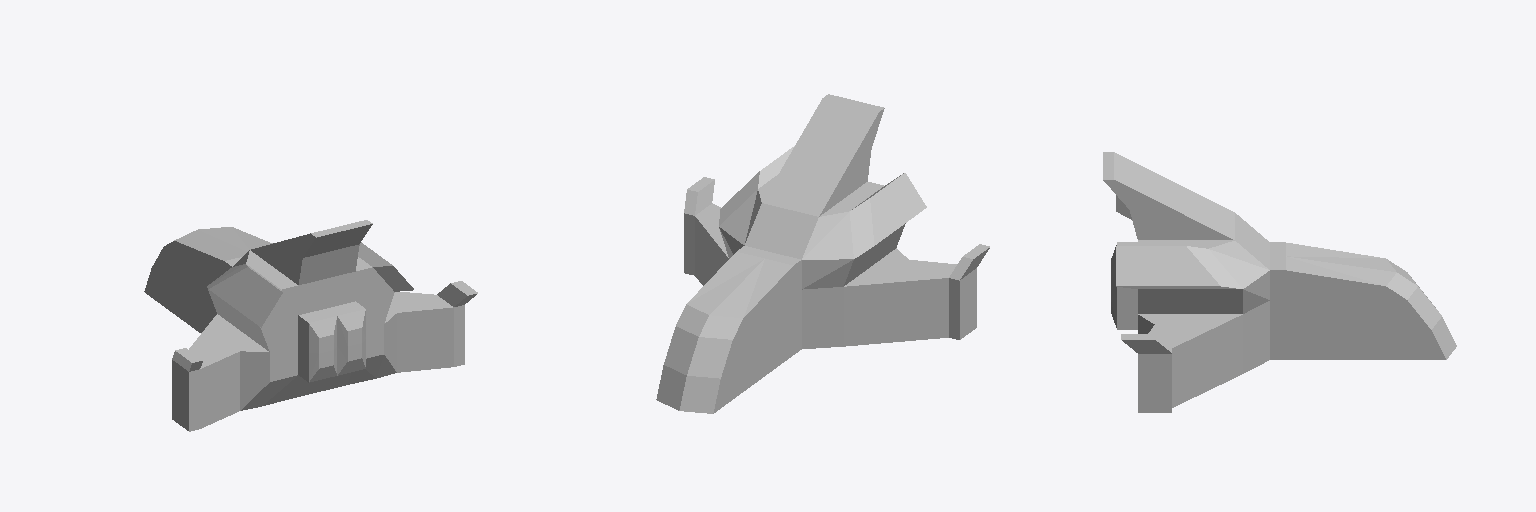
The model's file is Ship.obj.
3 renders of one model, left to right at view 1: azimuth 30°, elevation 25°; view 2: azimuth 150°, elevation 25°; view 3: azimuth 270°, elevation 25°, orthographic.
Visible parts, largest first — view 1: Cube; view 2: Cube; view 3: Cube.
Part boxes in pixels (bbox=[...]): Cube: bbox=[144, 220, 477, 431]; Cube: bbox=[656, 94, 989, 413]; Cube: bbox=[1103, 152, 1456, 412].
Bounding box in the file's own units: 5.01 × 3.01 × 5.37.